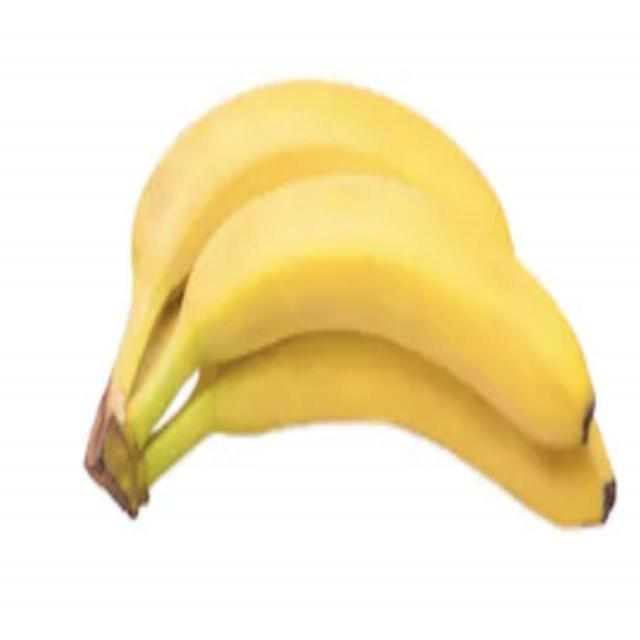banana: (84, 168, 630, 517)
